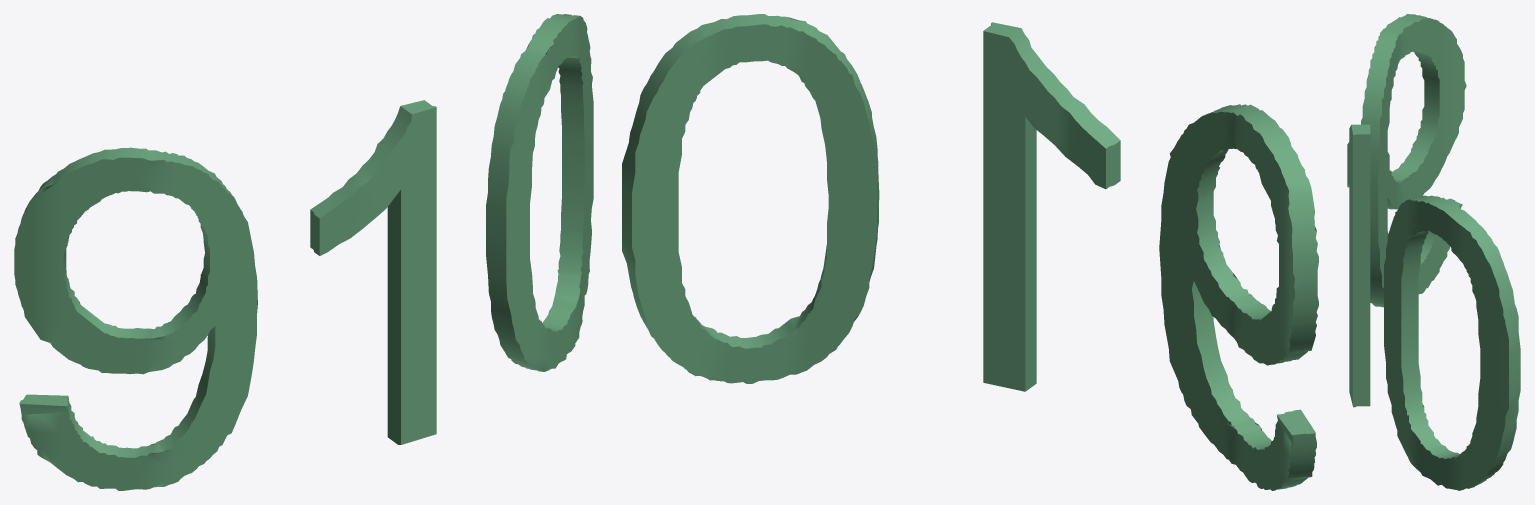
File: port_10.obj
3 renders of one model, left to right at view 1: azimuth 30°, elevation 25°; view 2: azimuth 150°, elevation 25°; view 3: azimuth 270°, elevation 25°, orthographic. The views are drawn at different scales.
Visible parts, largest first — view 1: Text01; view 2: Text01; view 3: Text01.
Part boxes in pixels (x1,y1,x2,y2): Text01: [14, 14, 593, 490]; Text01: [622, 14, 1318, 490]; Text01: [1347, 14, 1520, 490].
Bounding box in the file's own units: 3.06 × 1.59 × 0.9.
